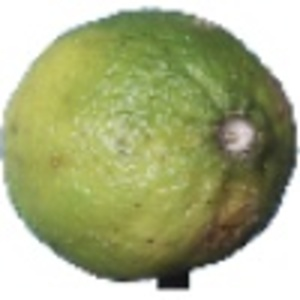limão: (1, 6, 300, 288)
